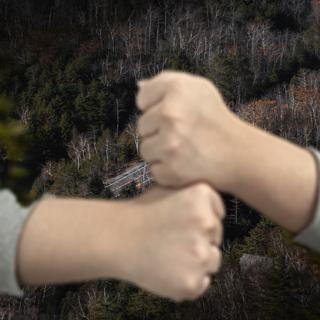CAREFUL: (25, 70, 320, 304)
